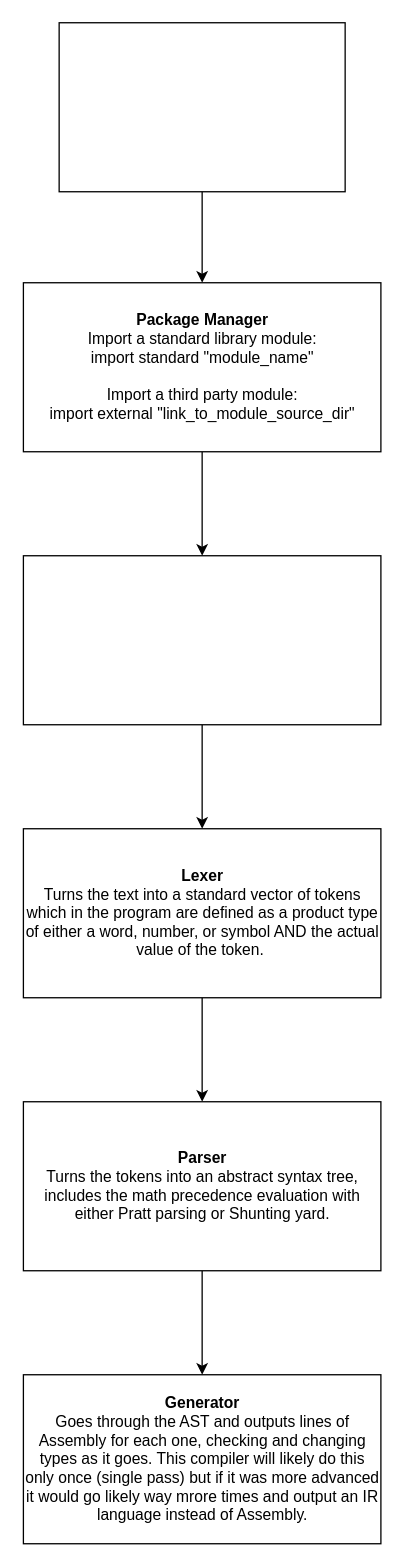
Some shapes in this 403 by 1567 pixel diagram are drawn without their labels. The box of each missing label's shape, as (x1, y1, x2, y2) in pixels:
Input A directory of source code: (58, 21, 345, 192)
Launcher Combines all the source code into one piece of text on memory: (22, 554, 381, 725)
